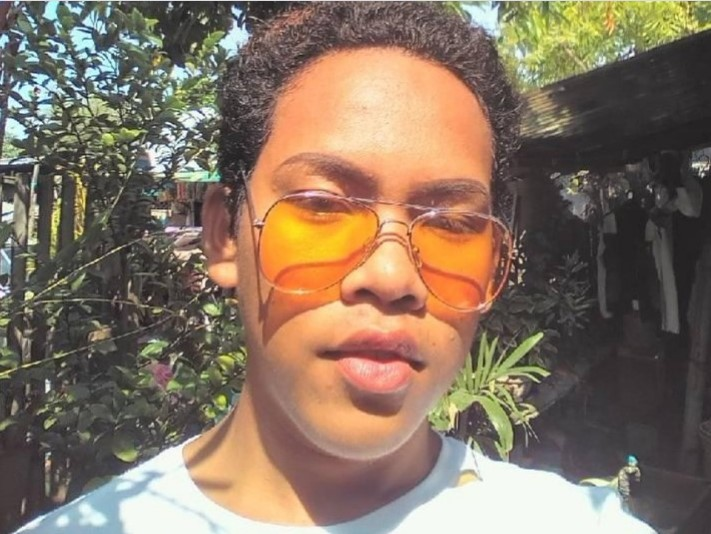face_no_mask: (227, 38, 505, 465)
